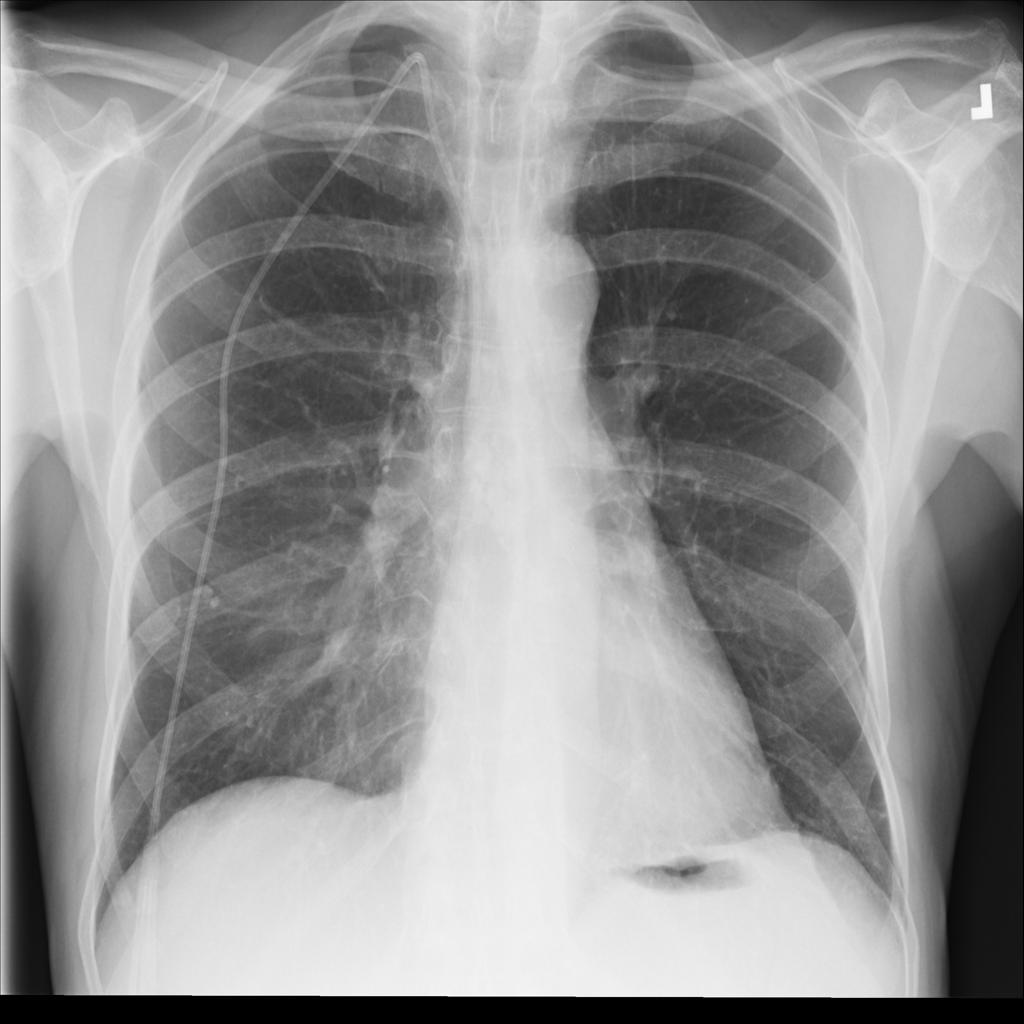nodule: (182, 574, 229, 622)
